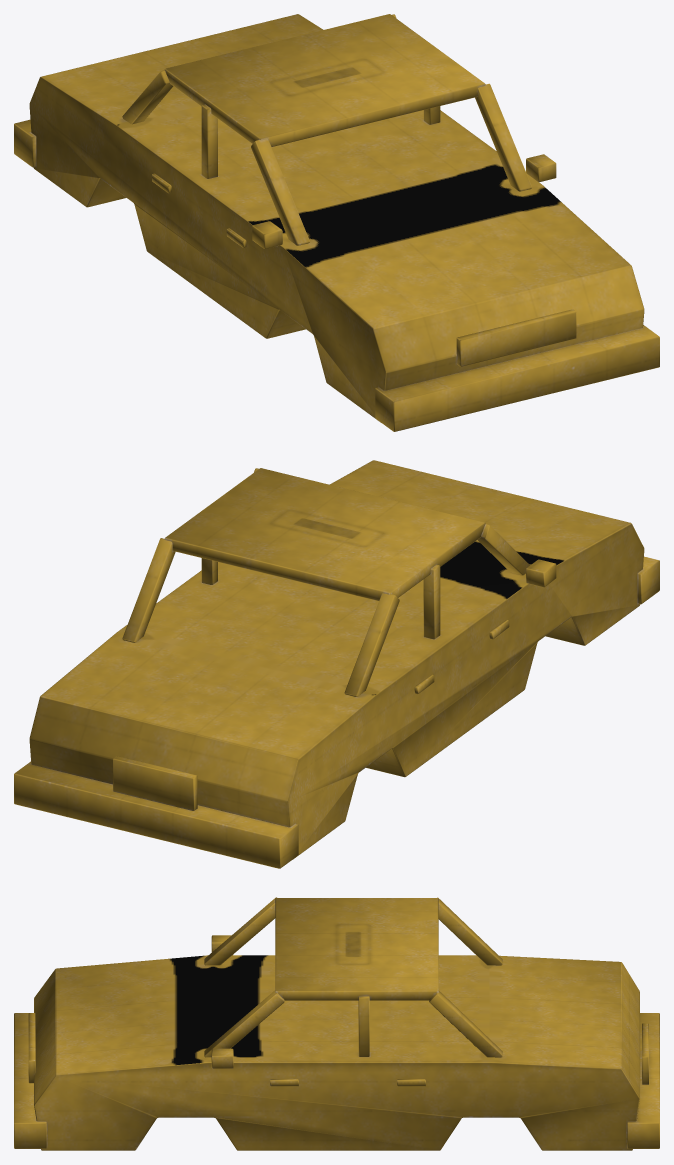
The model's file is Taxi_Carroceria.fbx.
The picture shows the model from 3 angles, top to bottom: view 1: azimuth 30°, elevation 25°; view 2: azimuth 150°, elevation 25°; view 3: azimuth 270°, elevation 25°; orthographic projection. The views are drawn at different scales.
Visible parts, largest first — view 1: Taxi_Carroceria; view 2: Taxi_Carroceria; view 3: Taxi_Carroceria.
Boxes of the visible parts, left/top/right/bottom form: Taxi_Carroceria: left=14, top=14, right=659, bottom=431; Taxi_Carroceria: left=14, top=460, right=659, bottom=868; Taxi_Carroceria: left=14, top=897, right=659, bottom=1150.
Size of the model in its own units: 7.9 by 4.65 by 17.8.
